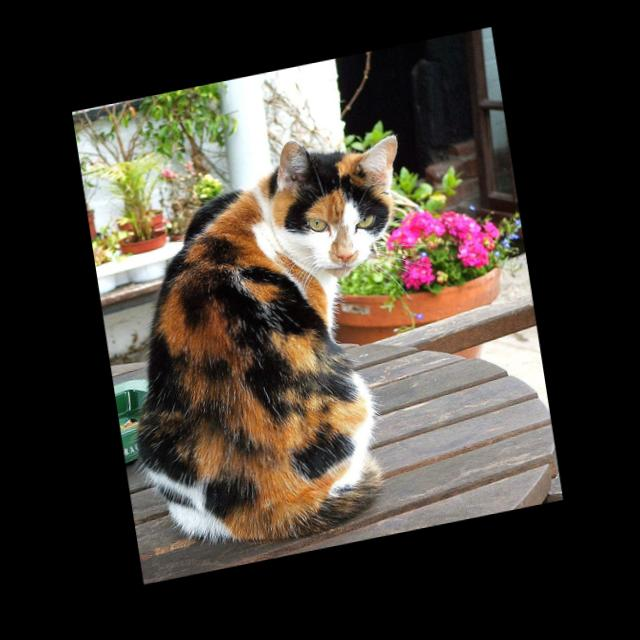animals: (271, 124, 411, 277)
